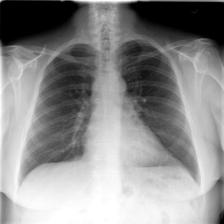normal: (14, 32, 202, 192)
